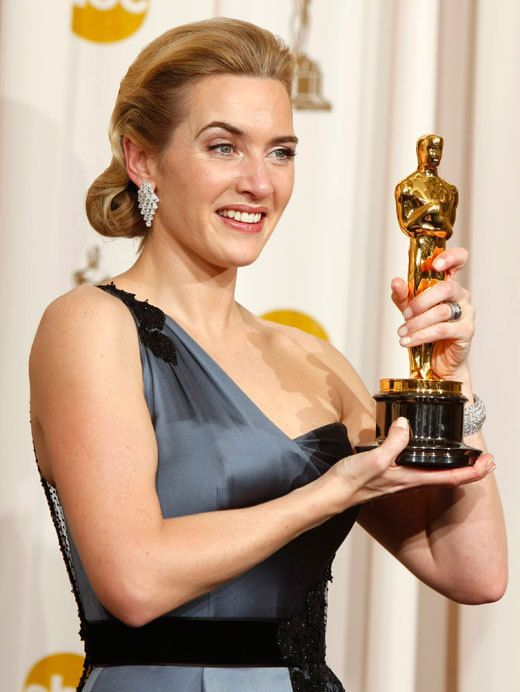hand: (321, 419, 489, 501)
